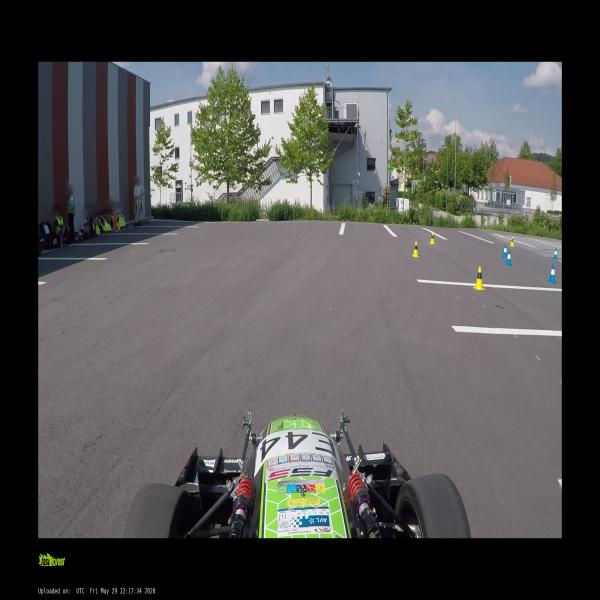blue_cone: (548, 263, 556, 283), (506, 250, 512, 265), (502, 245, 508, 257), (553, 248, 557, 260)
yellow_cone: (473, 266, 486, 290), (412, 241, 420, 258), (430, 232, 435, 244), (510, 237, 514, 247)
